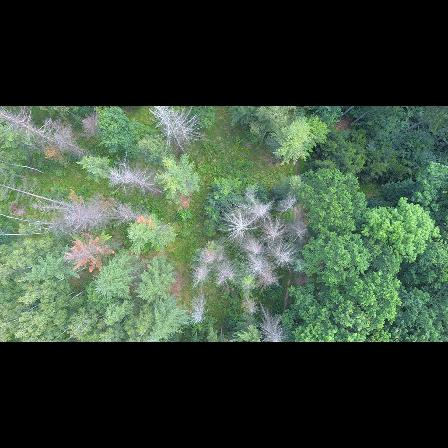Dead: (1, 109, 95, 161), (66, 209, 144, 232), (107, 165, 163, 197), (259, 305, 285, 341), (221, 213, 256, 239), (161, 112, 183, 151), (219, 259, 242, 295), (244, 191, 270, 221), (189, 261, 213, 290), (172, 110, 190, 144), (262, 220, 286, 245), (189, 294, 207, 326), (273, 248, 294, 267), (247, 242, 265, 261), (247, 257, 266, 275)
